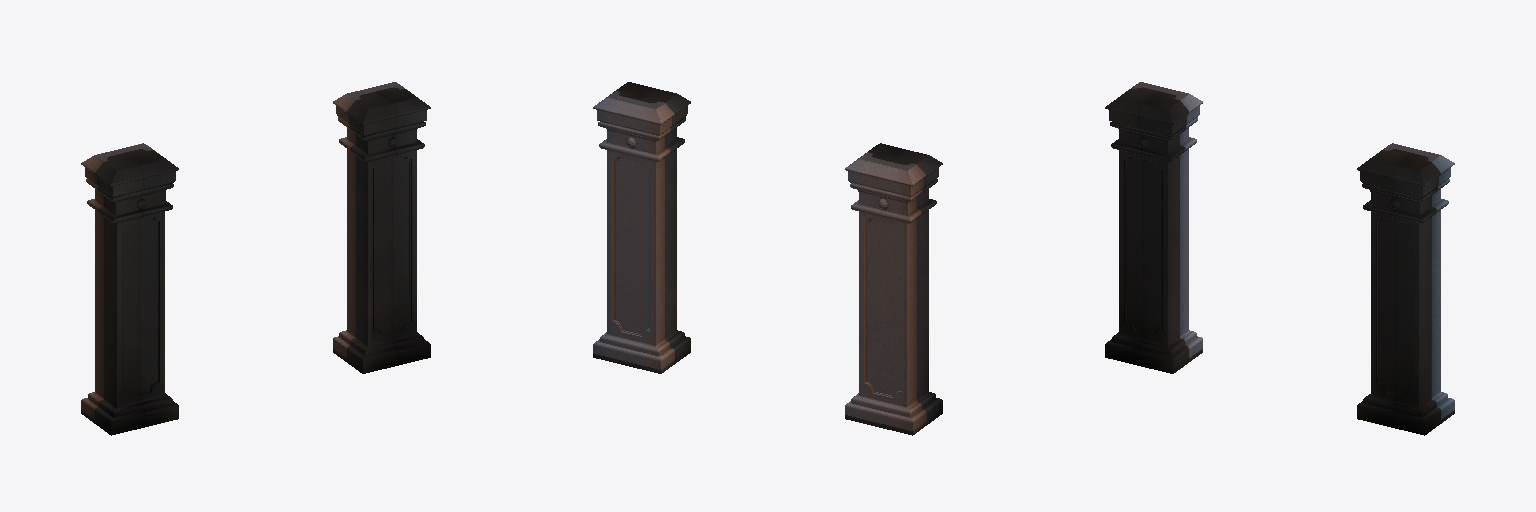
The picture shows the model from 3 angles: view 1: azimuth 30°, elevation 25°; view 2: azimuth 150°, elevation 25°; view 3: azimuth 330°, elevation 25°; orthographic projection.
Visible parts, largest first — view 1: Wall_Small_Pillar_HR; view 2: Wall_Small_Pillar_HR; view 3: Wall_Small_Pillar_HR.
Boxes of the visible parts, x1,y1,x2,y2 form: Wall_Small_Pillar_HR: [81, 82, 430, 435]; Wall_Small_Pillar_HR: [593, 82, 942, 435]; Wall_Small_Pillar_HR: [1105, 82, 1454, 435].
Bounding box in the file's own units: 3.29 × 2.55 × 0.5354.
1 materials, 1 textured.